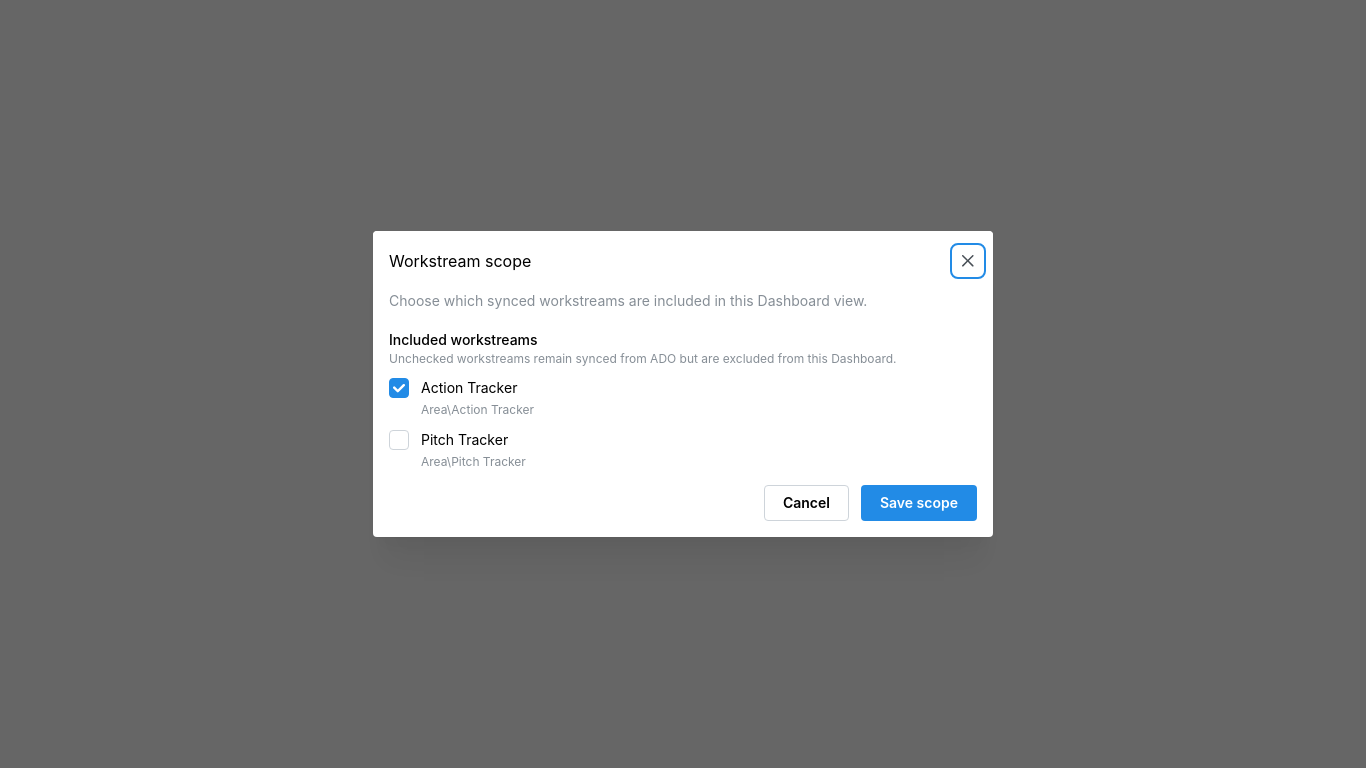
Scenario: WorkstreamScopeModal › blocks empty selections and shows validation
Click the checkbox labelled "Action Tracker" at (399, 388), box [389,378,409,398]
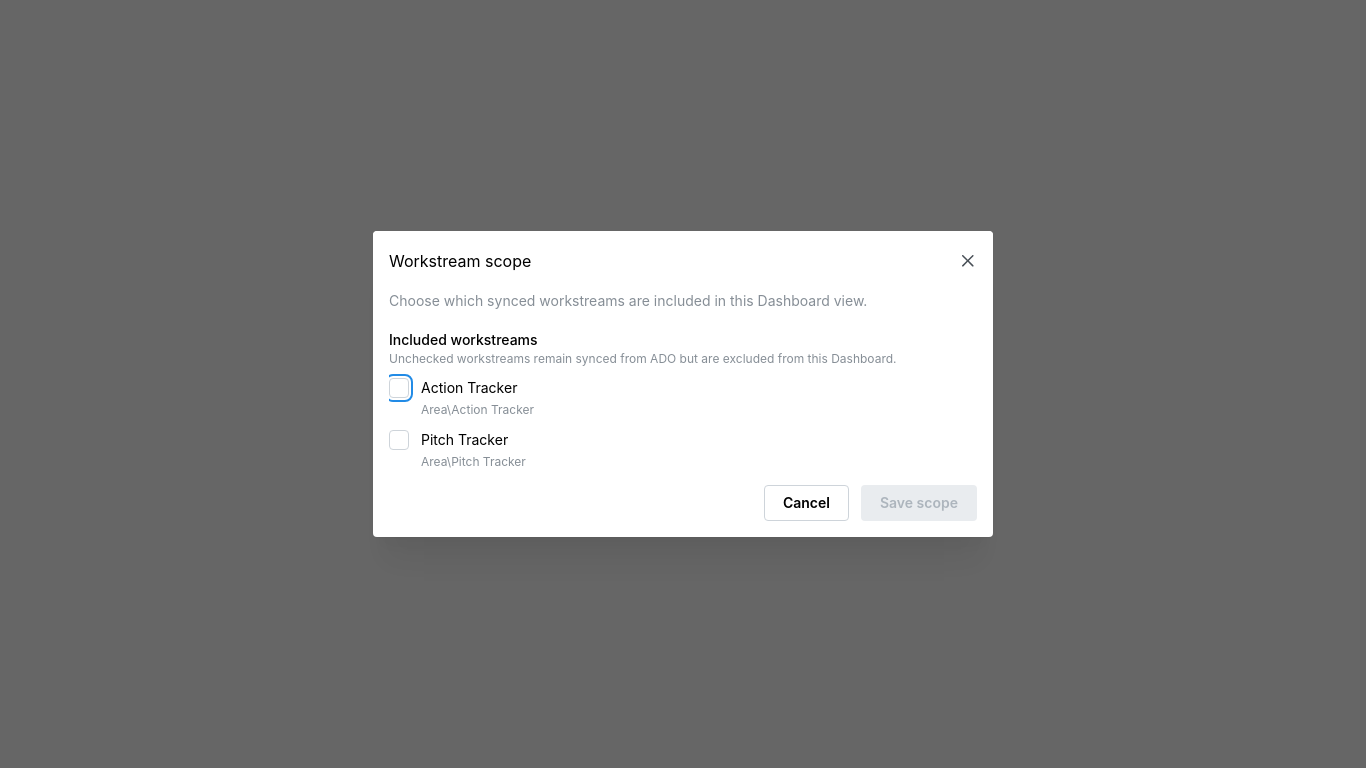
Expected: the button "Save scope" is disabled, [861,485,977,521]
